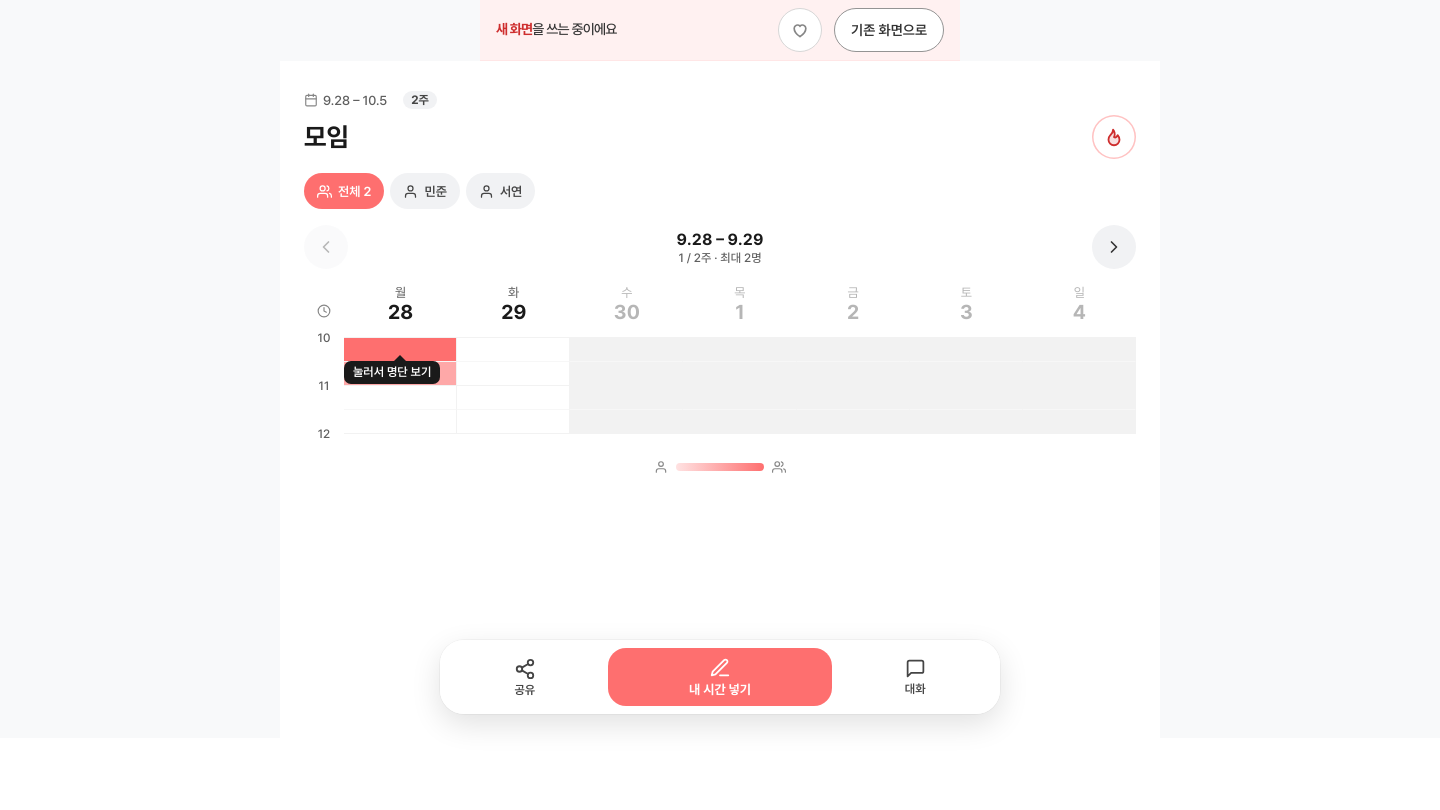
참여 › 참여 전에는 내 시간 넣기가 참여 창을 열고, 참여하면 계측 뒤 입력 모드로 간다
expect the heading "모임" is shown: met, box [304,122,349,152]
Click the button "내 시간 넣기".
click(720, 677)  # box [608,648,832,706]
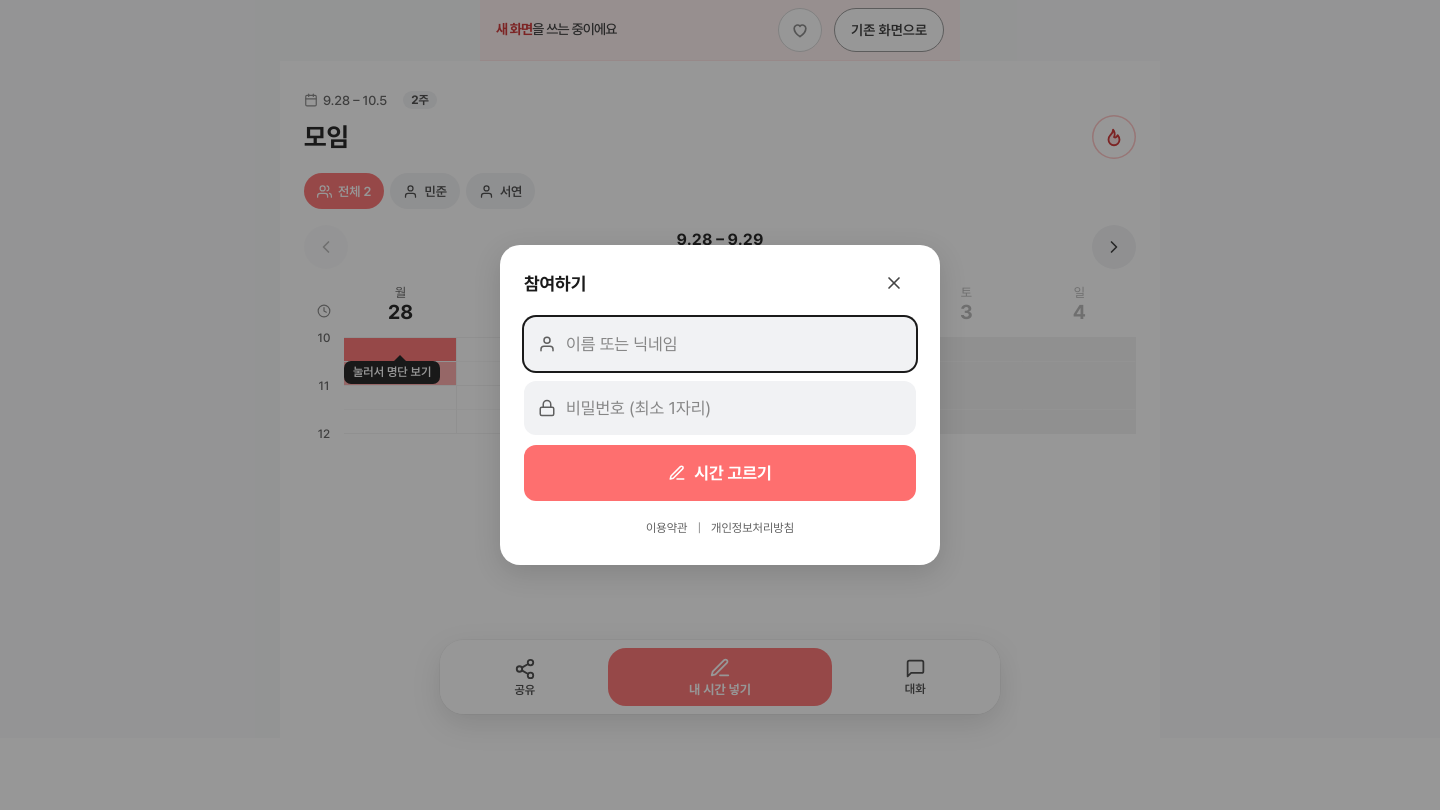
Type "지우" into the field labelled "이름".
click(734, 344); type("지우")  # box [566,319,902,369]
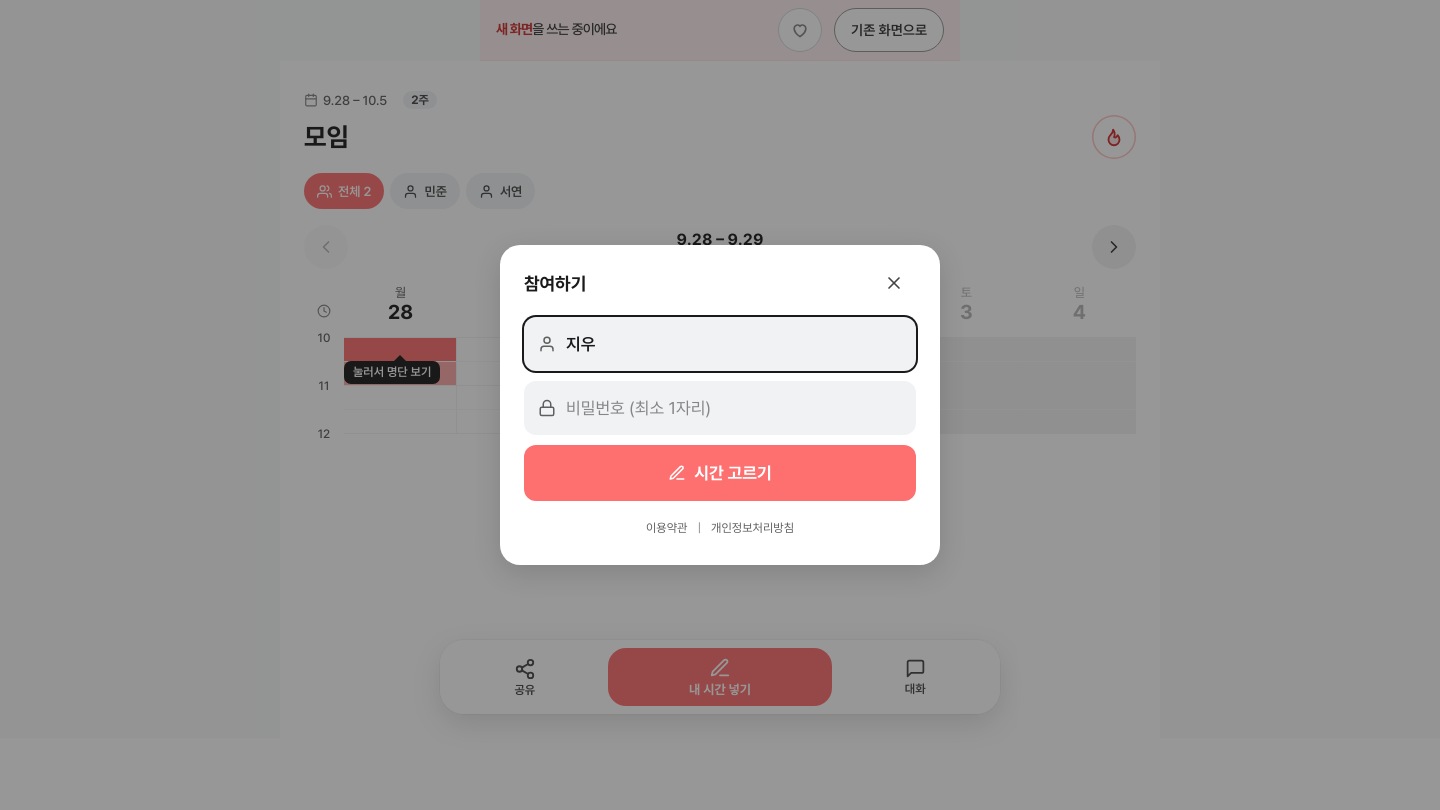
Type "1234" into the password field labelled "비밀번호".
click(734, 408); type("1234")  # box [566,383,902,433]
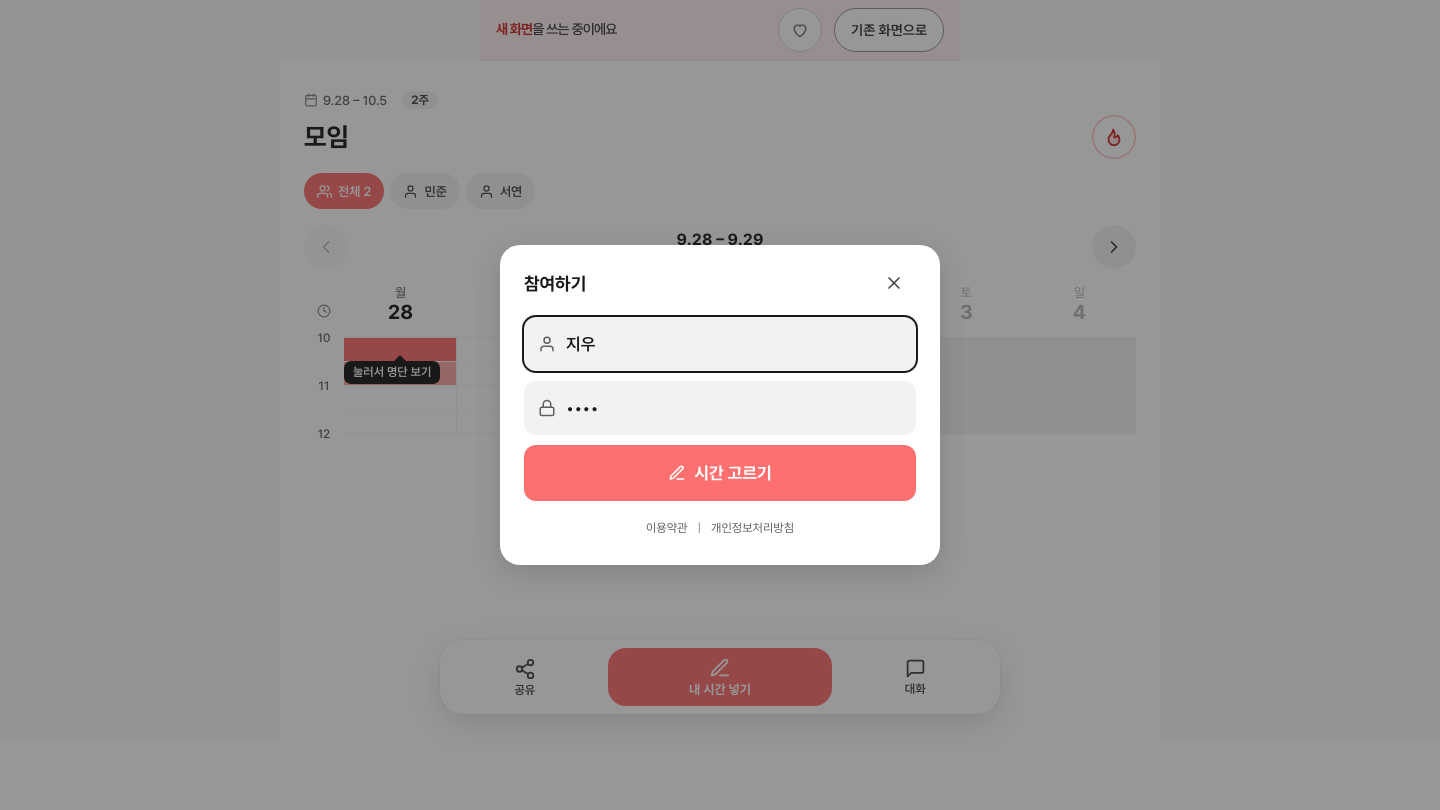
Click the button "시간 고르기".
click(720, 473)  # box [524,445,916,501]
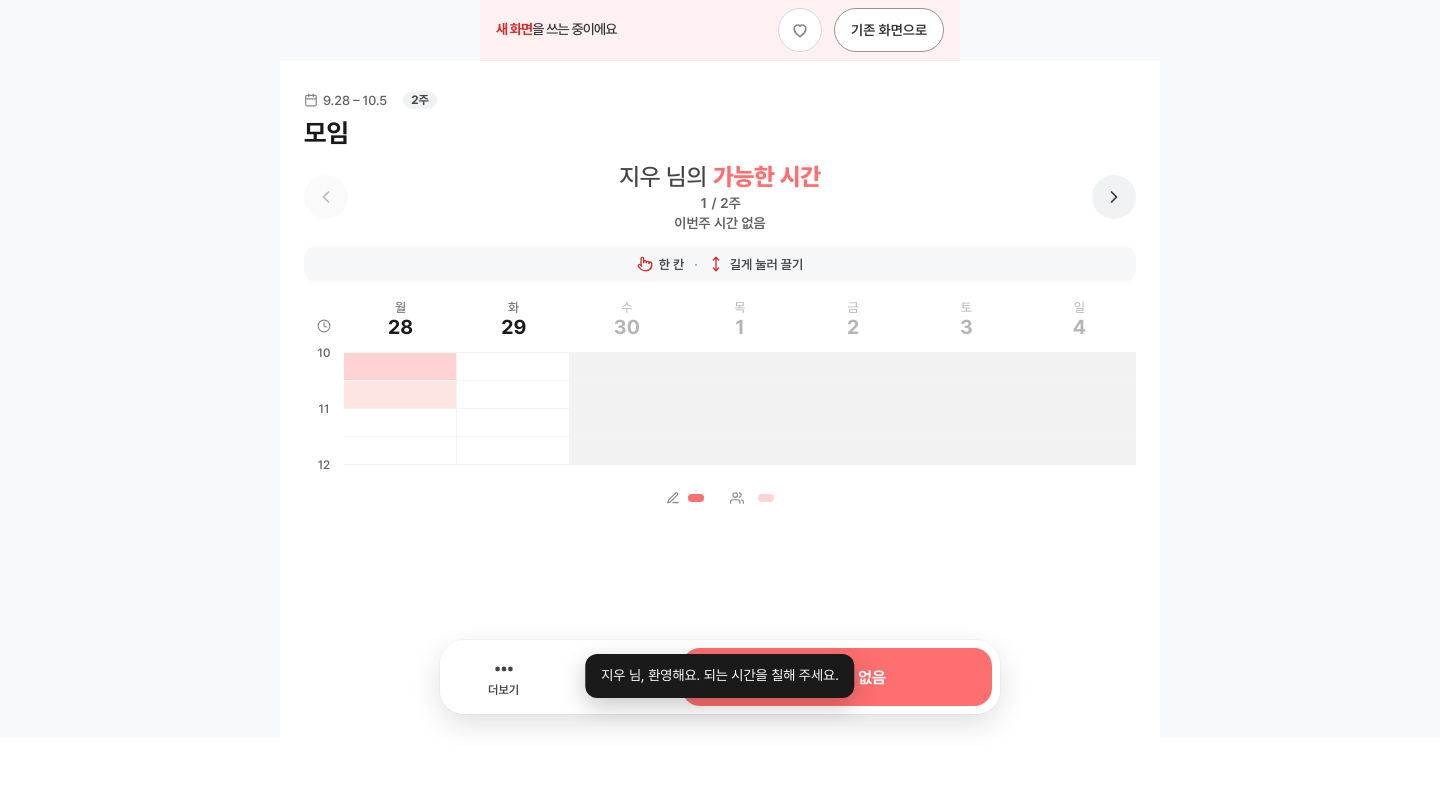
expect the text "지우 님의" is shown: met, box [619,162,707,192]
